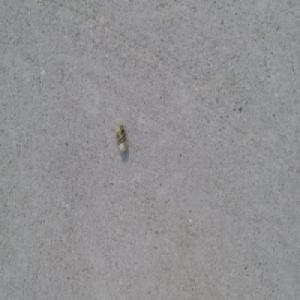BoltNutSet: (115, 123, 128, 152)
